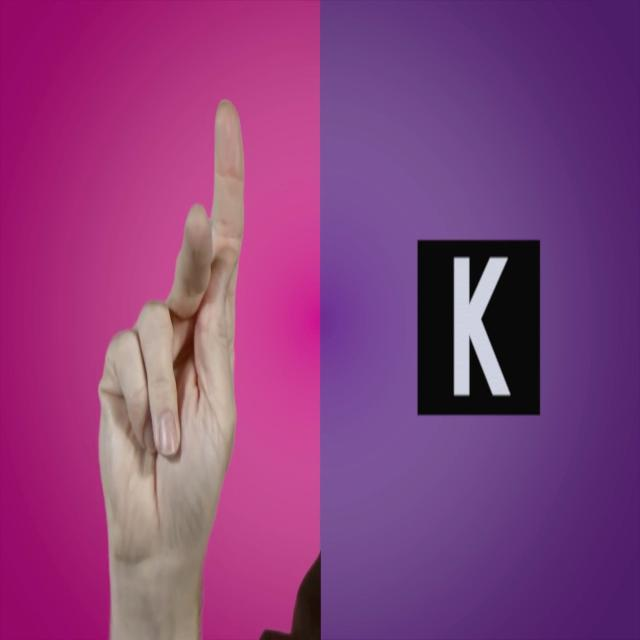K: (76, 82, 267, 640)
